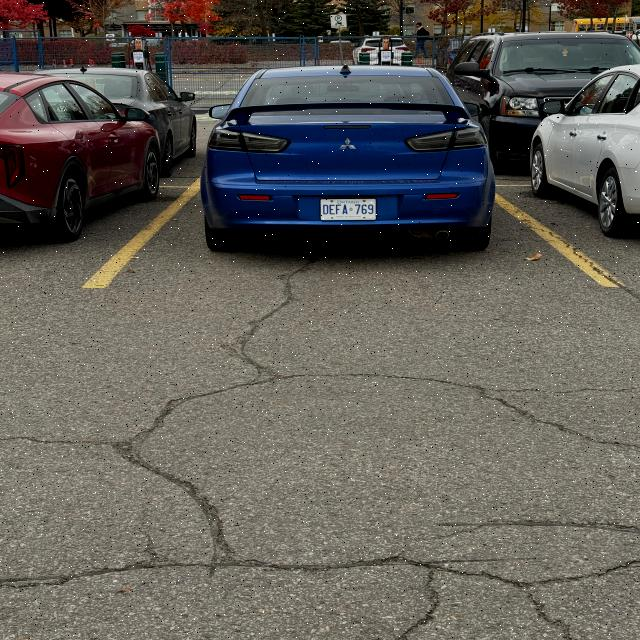plaque: (320, 199, 376, 220), (381, 51, 391, 62)
